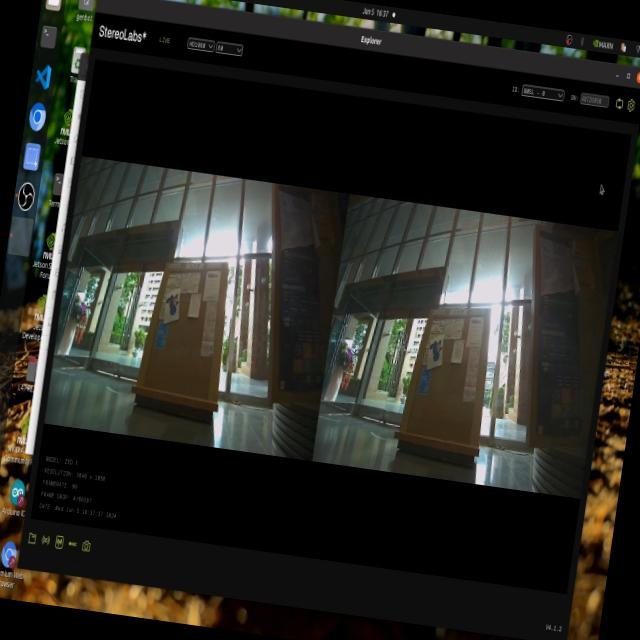blue: (425, 342, 446, 364), (164, 297, 182, 322)
